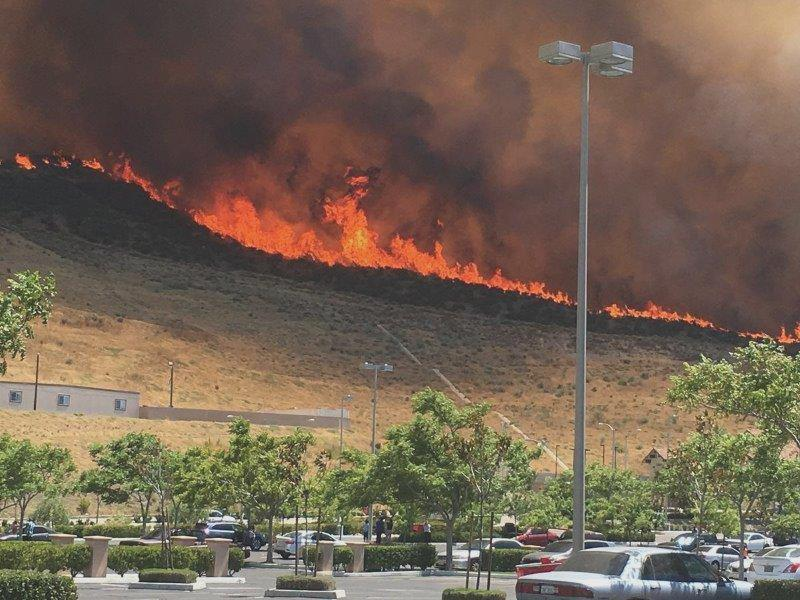Fire: (201, 181, 576, 310), (13, 150, 173, 211), (606, 300, 797, 343)
